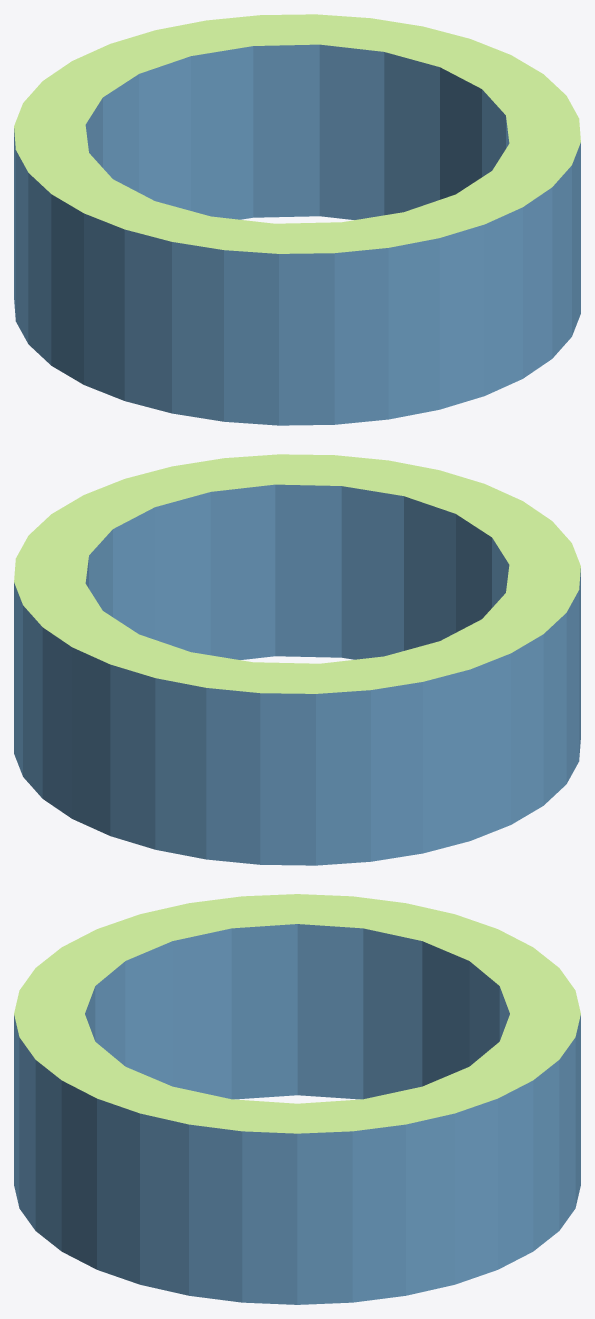
File: hollowed_cylinder.fbx
The picture shows the model from 3 angles, top to bottom: view 1: azimuth 30°, elevation 25°; view 2: azimuth 150°, elevation 25°; view 3: azimuth 270°, elevation 25°; orthographic projection.
Parts seen in each view (by area): view 1: Cylinder; view 2: Cylinder; view 3: Cylinder.
Boxes of the visible parts, x1=… form: Cylinder: x1=14, y1=14, x2=580, y2=425; Cylinder: x1=14, y1=454, x2=580, y2=865; Cylinder: x1=14, y1=894, x2=580, y2=1304.
Bounding box in the file's own units: 300 × 100 × 300.
